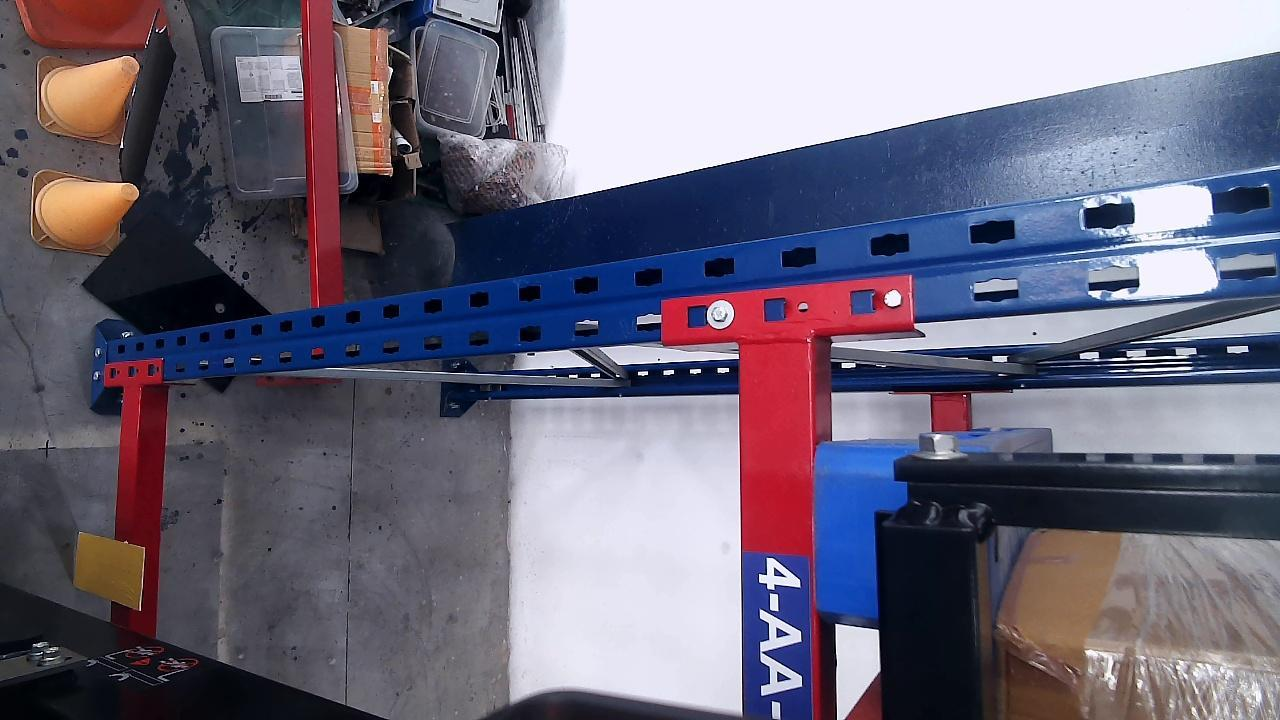h_rack: (739, 336, 822, 716), (110, 381, 141, 625)
orange_strip: (75, 534, 144, 609)
